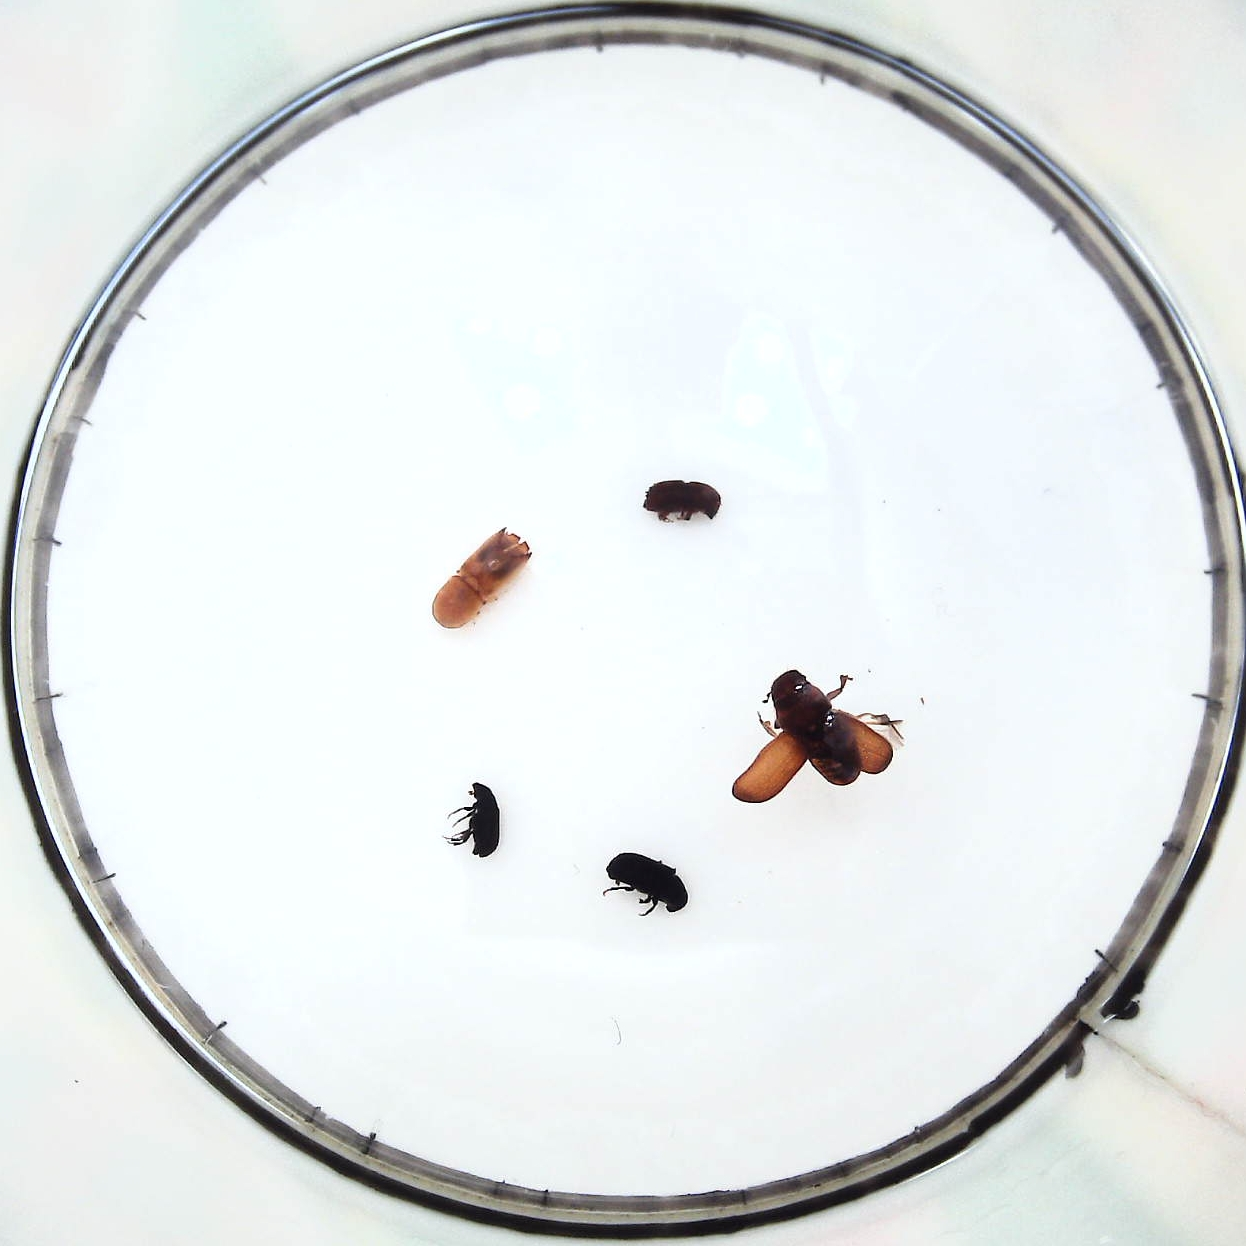Boerner: (424, 525, 531, 631)
Leconte: (729, 667, 900, 811)
Linnaeus: (645, 476, 718, 528)
armandi: (602, 850, 687, 919)
coleoptera: (450, 779, 502, 861)
